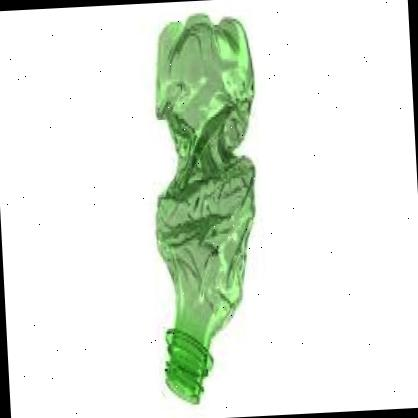bottle: (138, 12, 276, 412)
